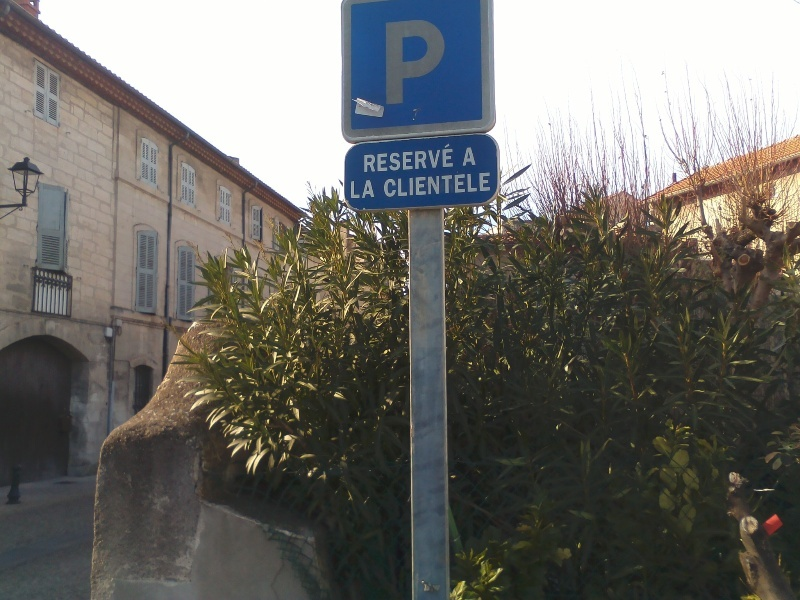text: (433, 17, 449, 107), (385, 17, 400, 107), (401, 17, 416, 107), (417, 17, 432, 107), (369, 144, 384, 174), (385, 144, 400, 174), (401, 144, 416, 174), (417, 144, 432, 174), (433, 144, 448, 174), (385, 172, 400, 199), (401, 172, 416, 199), (417, 172, 432, 199), (433, 172, 448, 199), (449, 172, 464, 199), (465, 172, 480, 199), (353, 180, 368, 200), (481, 172, 492, 199), (466, 147, 480, 167), (362, 144, 368, 174), (449, 144, 455, 174), (369, 180, 376, 200), (383, 172, 384, 199), (351, 180, 352, 200)
